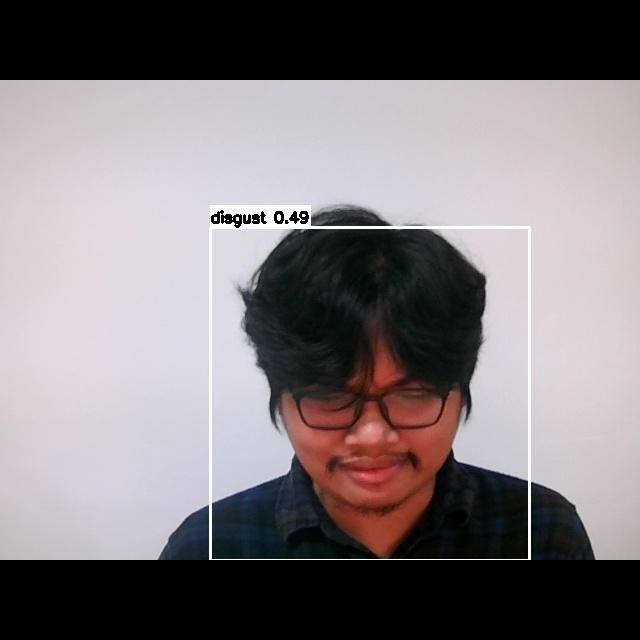Fear: (270, 342, 463, 499)
